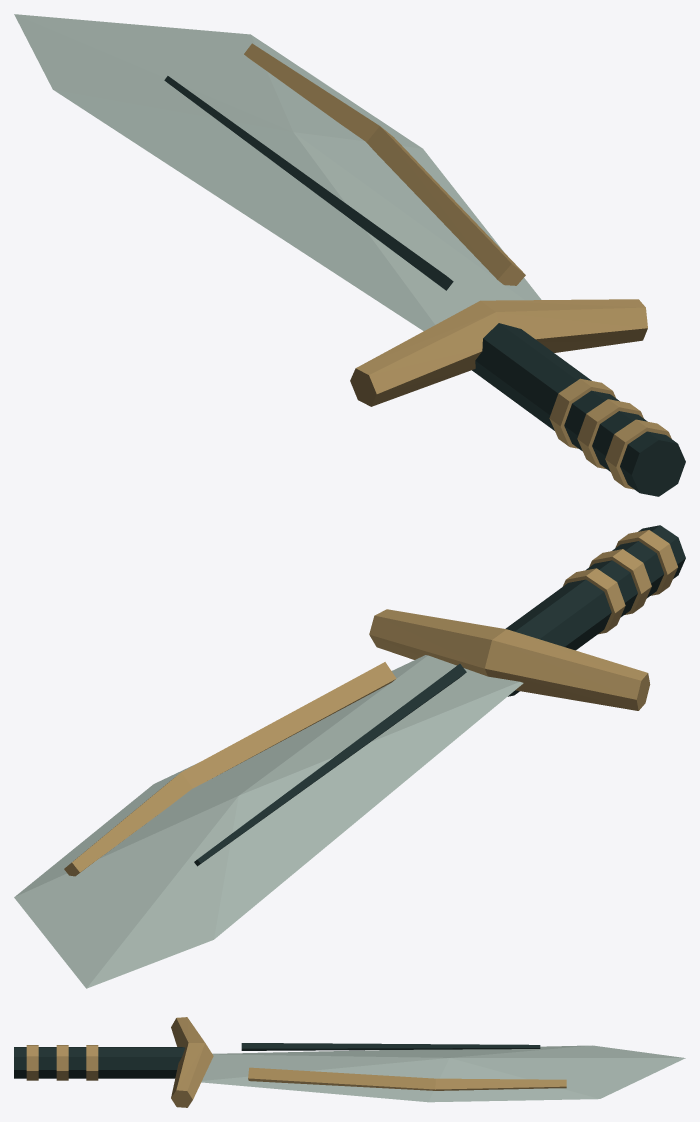
Rendered from ferry_blade.glb.
3 renders of one model, top to bottom at view 1: azimuth 30°, elevation 25°; view 2: azimuth 150°, elevation 25°; view 3: azimuth 270°, elevation 25°, orthographic. The views are drawn at different scales.
Visible parts, largest first — view 1: BladeMesh; view 2: BladeMesh; view 3: BladeMesh.
Boxes of the visible parts, x1,y1,x2,y2 form: BladeMesh: (14,14,685,496); BladeMesh: (14,525,685,988); BladeMesh: (14,1017,685,1107).
Bounding box in the file's own units: 0.4851 × 0.11 × 1.8.
